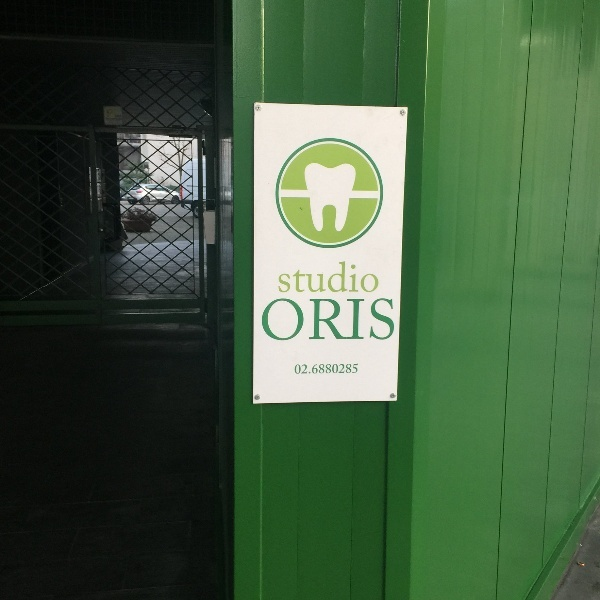text: (273, 297, 288, 342), (289, 297, 304, 342), (305, 297, 320, 342), (321, 297, 336, 342), (337, 297, 352, 342), (353, 297, 368, 342), (369, 297, 384, 342), (289, 254, 304, 295), (305, 254, 320, 295), (321, 254, 336, 295), (337, 254, 352, 295), (353, 254, 368, 295), (369, 254, 380, 295), (385, 297, 395, 342), (278, 254, 288, 295), (263, 297, 272, 342), (305, 363, 320, 374), (321, 363, 336, 374), (337, 363, 352, 374), (295, 363, 304, 374), (353, 363, 359, 374)
